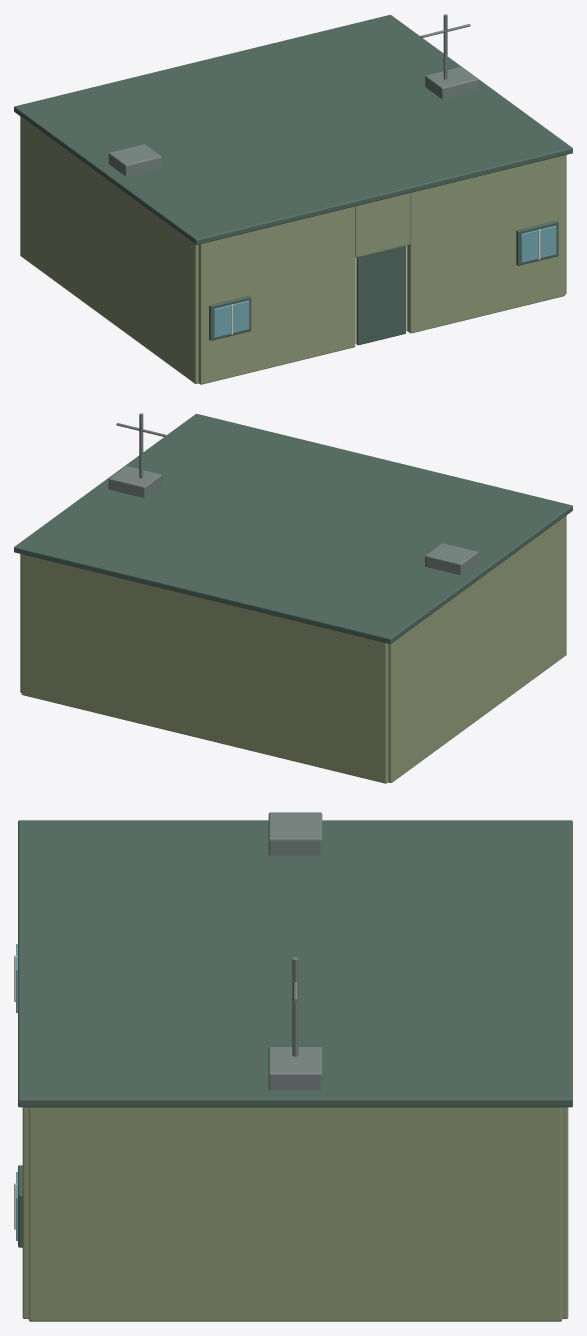
File: military-command.glb
3 views of the same model, one above another, from view 1: azimuth 30°, elevation 25°; view 2: azimuth 150°, elevation 25°; view 3: azimuth 270°, elevation 25° (orthographic). The views are drawn at different scales.
Parts seen in each view (by area): view 1: shell-wall, roof-trim, entry door, roof-steel, shell-glass, shell-trim; view 2: shell-wall, roof-trim, roof-steel; view 3: roof-trim, shell-wall, roof-steel.
Boxes of the visible parts, x1,y1,x2,y2 form: shell-wall: [20, 116, 566, 384]; roof-trim: [14, 14, 572, 244]; entry door: [356, 245, 405, 345]; roof-steel: [108, 14, 478, 176]; shell-glass: [214, 225, 556, 337]; shell-trim: [209, 220, 558, 340]; shell-wall: [20, 515, 566, 783]; roof-trim: [14, 413, 572, 643]; roof-steel: [108, 413, 478, 575]; roof-trim: [18, 820, 572, 1107]; shell-wall: [22, 1107, 568, 1321]; roof-steel: [268, 812, 322, 1090].
Bounding box in the file's own units: 12.4 × 7.01 × 10.47.
